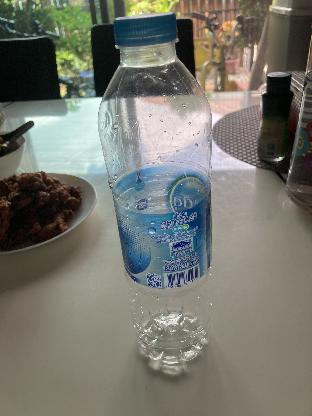Plastic Bottle: (95, 11, 214, 377)
